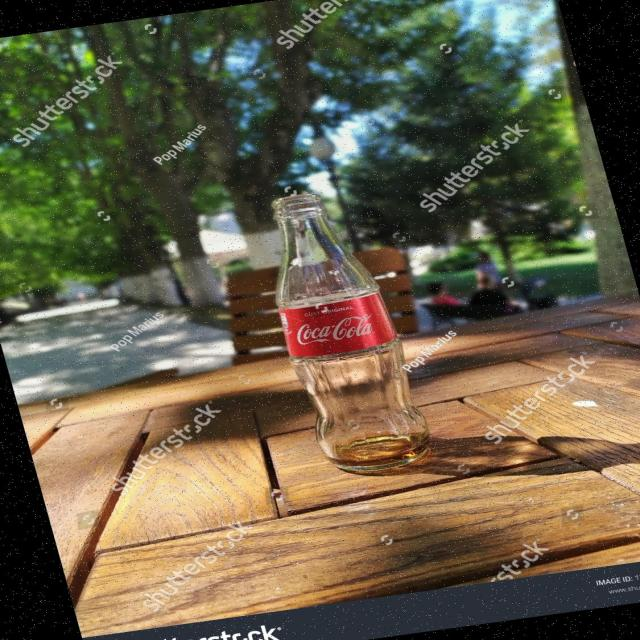coca-cola: (243, 177, 446, 485)
